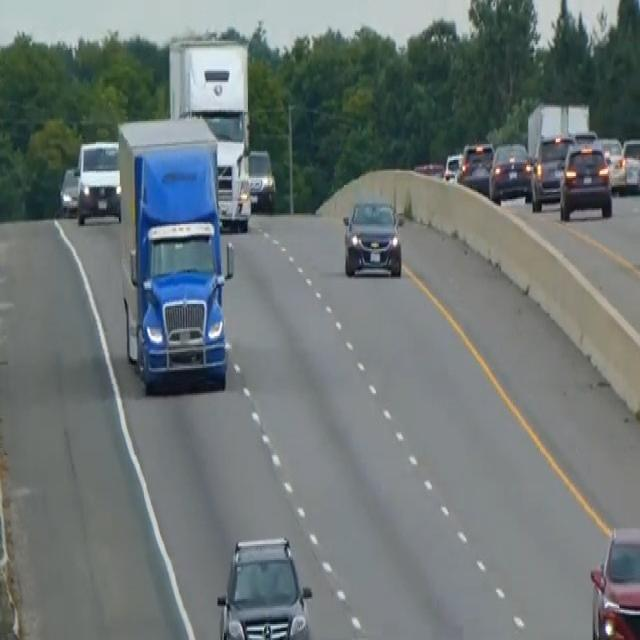car: (589, 523, 639, 638), (341, 195, 403, 278), (558, 140, 613, 220), (76, 137, 121, 226), (529, 132, 573, 210), (488, 140, 532, 202), (591, 135, 626, 192), (247, 146, 276, 212), (457, 139, 493, 192), (58, 163, 80, 217), (621, 135, 639, 192), (442, 151, 463, 181)
jeep: (215, 534, 313, 638)
lorry: (116, 114, 234, 393)
